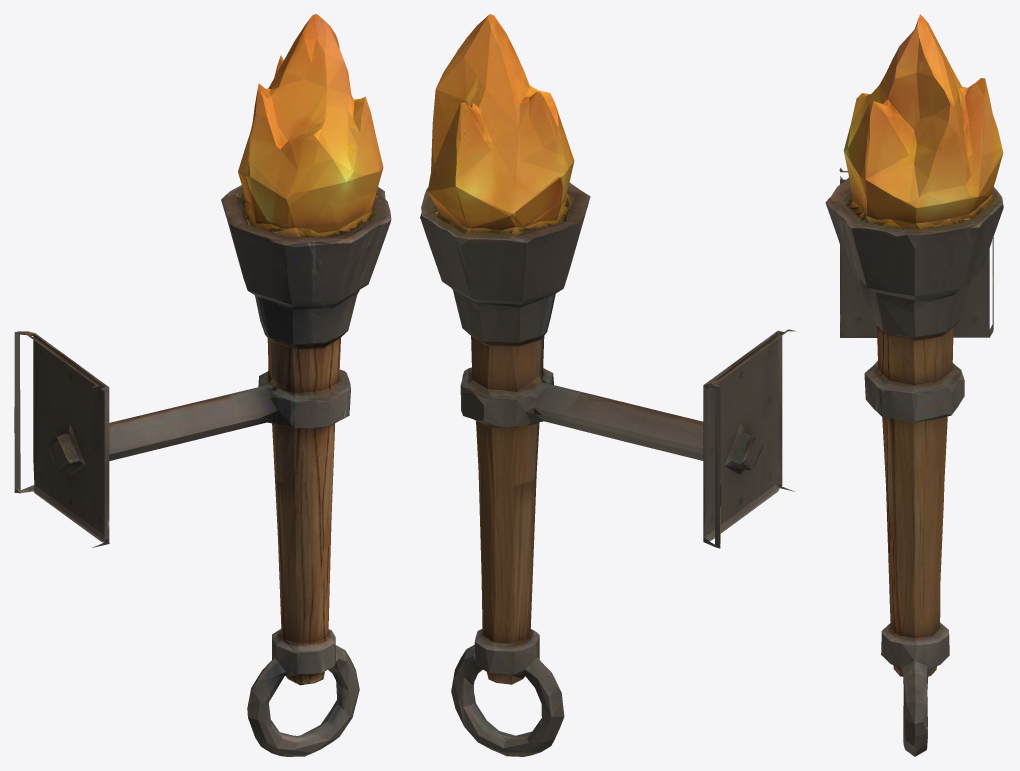
File: sconce_torch_bracket_lod0.glb
The picture shows the model from 3 angles, left to right: view 1: azimuth 30°, elevation 25°; view 2: azimuth 150°, elevation 25°; view 3: azimuth 270°, elevation 25°; orthographic projection.
Visible parts, largest first — view 1: sconce_torch_bracket_lod0; view 2: sconce_torch_bracket_lod0; view 3: sconce_torch_bracket_lod0.
Boxes of the visible parts, box(x1,y1,x2,y2) form: sconce_torch_bracket_lod0: box(14, 14, 391, 756); sconce_torch_bracket_lod0: box(420, 14, 795, 756); sconce_torch_bracket_lod0: box(825, 14, 1003, 756).
Size of the model in its own units: 0.277 by 0.5954 by 0.131.
Materials: 1 (1 with a texture image).
